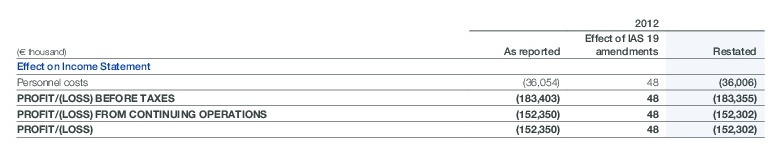table: (0, 0, 781, 155)
